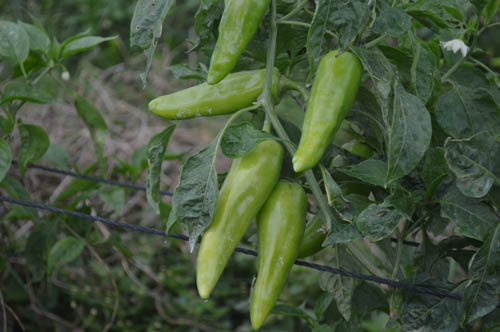ChiliPepper: (189, 129, 284, 301), (287, 40, 362, 184), (240, 178, 309, 330), (143, 68, 272, 120), (207, 1, 278, 91)
